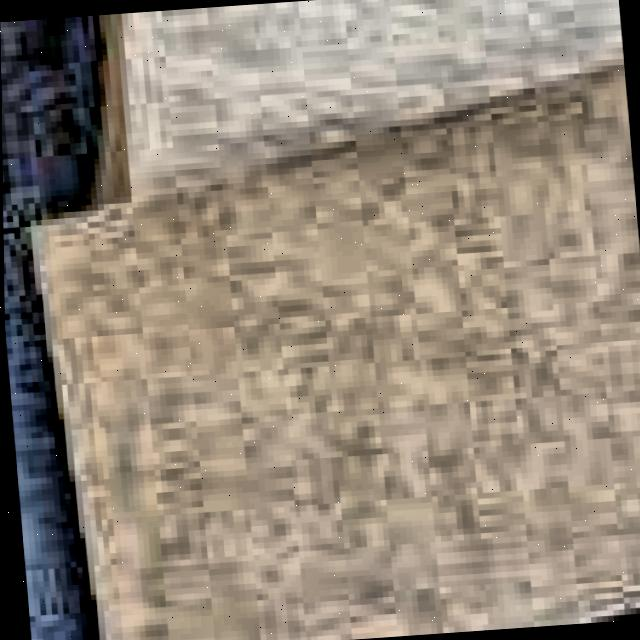paper: (12, 0, 640, 640)
